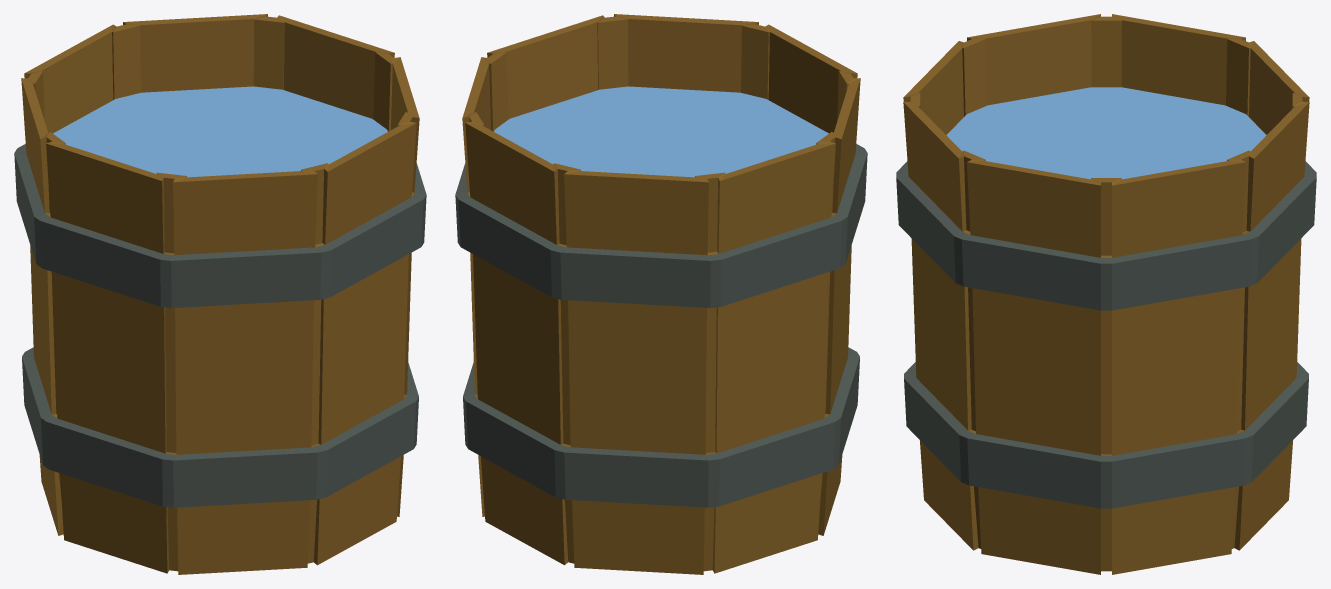
The model's file is air.fbx.
The picture shows the model from 3 angles, left to right: view 1: azimuth 30°, elevation 25°; view 2: azimuth 150°, elevation 25°; view 3: azimuth 270°, elevation 25°; orthographic projection.
Visible parts, largest first — view 1: air; view 2: air; view 3: air.
Part boxes in pixels (x1,y1,x2,y2): air: [14, 14, 426, 574]; air: [455, 14, 867, 574]; air: [896, 14, 1316, 574].
Bounding box in the file's own units: 65.71 × 68.71 × 65.71.
